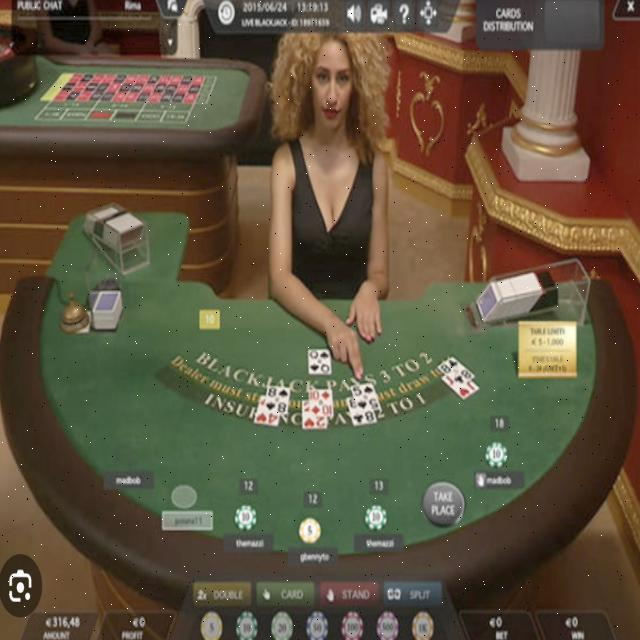Card-10: (309, 389, 334, 416)
Card-2: (302, 399, 327, 428)
Card-4: (254, 394, 279, 425)
Card-5: (350, 383, 380, 407)
Card-8: (347, 396, 376, 425), (266, 386, 290, 413)
Card-Q: (309, 349, 331, 374)
